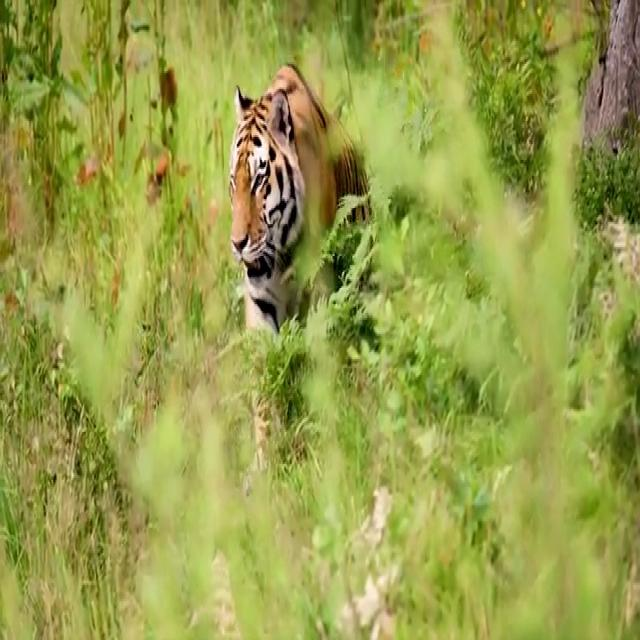tiger: (228, 60, 376, 490)
